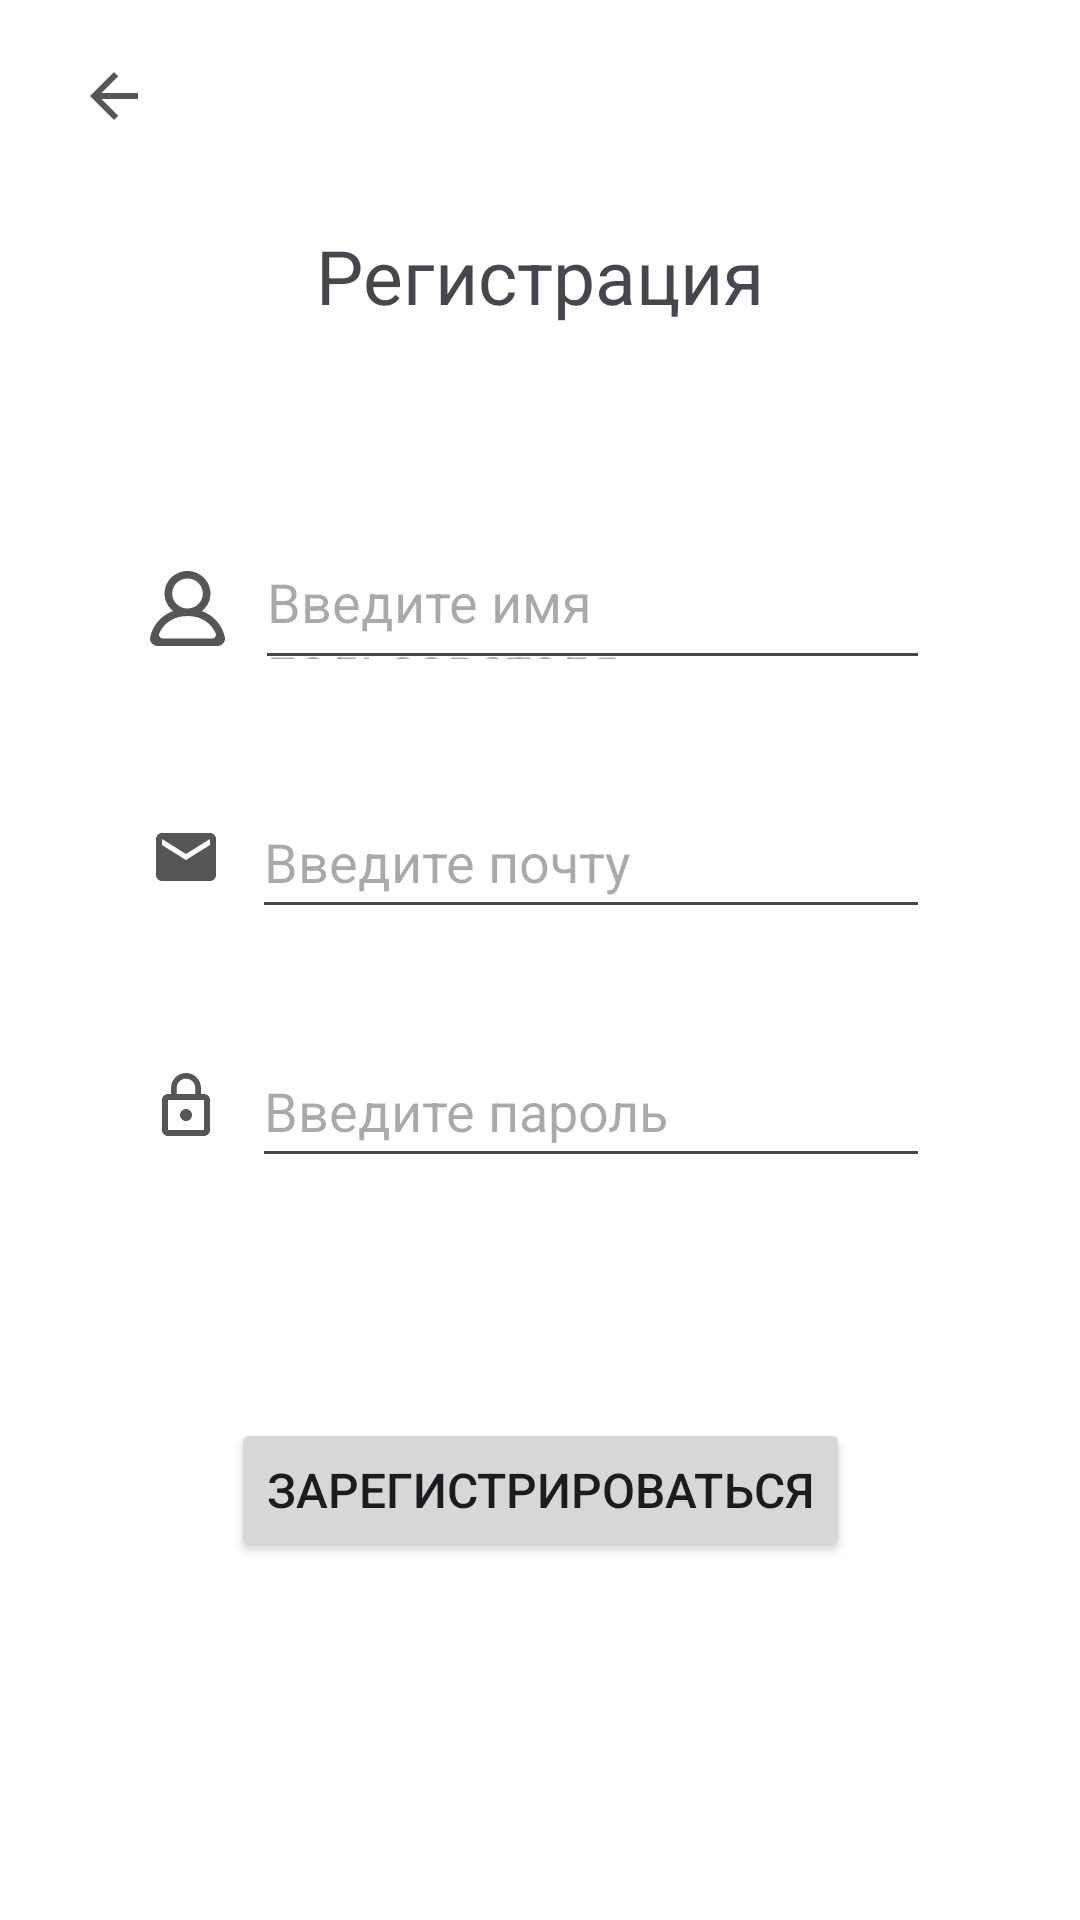

Screen size 1080 × 1920. Icon name, then its box in pixels as (x1, y1, x2, y2):
arrow back: (90, 72, 138, 120)
email: (156, 833, 216, 881)
lock: (162, 1073, 210, 1136)
username: (150, 571, 225, 646)
